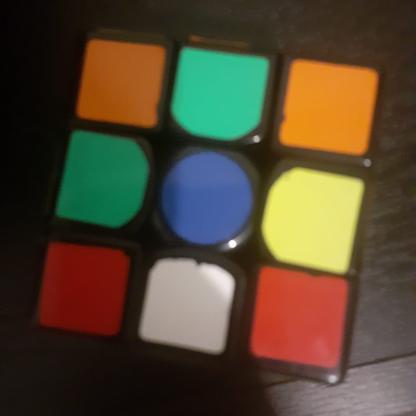cube: (25, 25, 391, 392)
